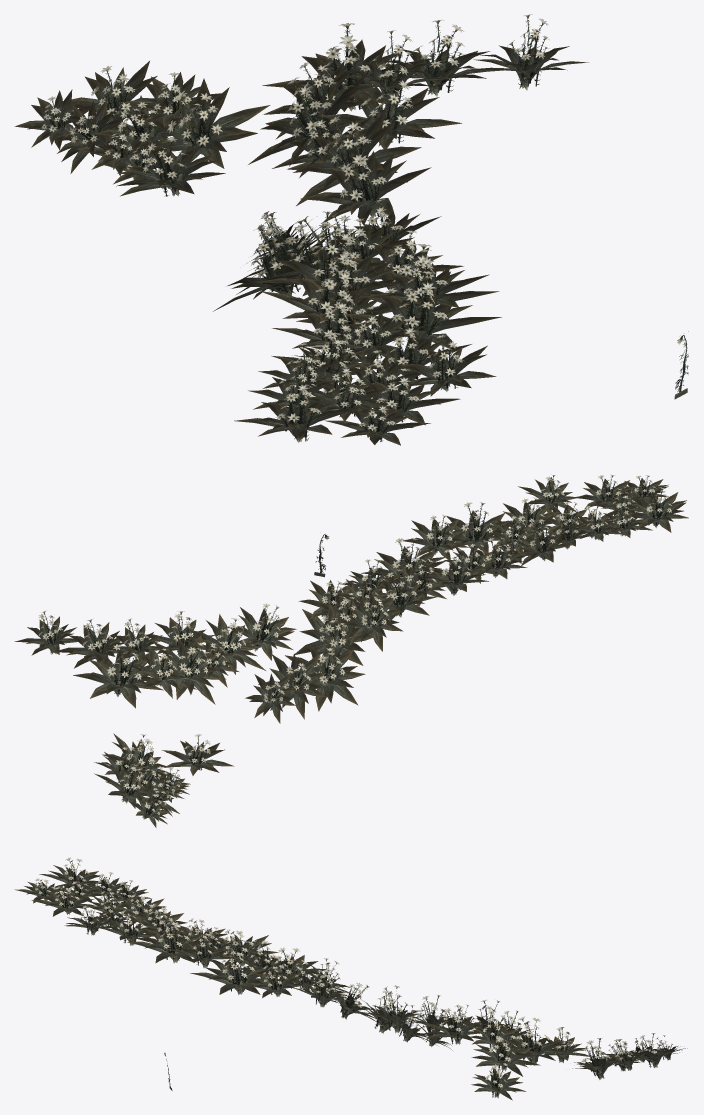
The model's file is grass08.fbx.
3 renders of one model, top to bottom at view 1: azimuth 30°, elevation 25°; view 2: azimuth 150°, elevation 25°; view 3: azimuth 270°, elevation 25°, orthographic. The views are drawn at different scales.
Visible parts, largest first — view 1: m001214_0; view 2: m001214_0; view 3: m001214_0.
Part boxes in pixels (left/top/right/bottom): m001214_0: left=14, top=14, right=688, bottom=445; m001214_0: left=14, top=474, right=688, bottom=827; m001214_0: left=14, top=857, right=687, bottom=1100.
Size of the model in its own units: 65540 by 20616 by 98837.
1 material, 1 textured.
